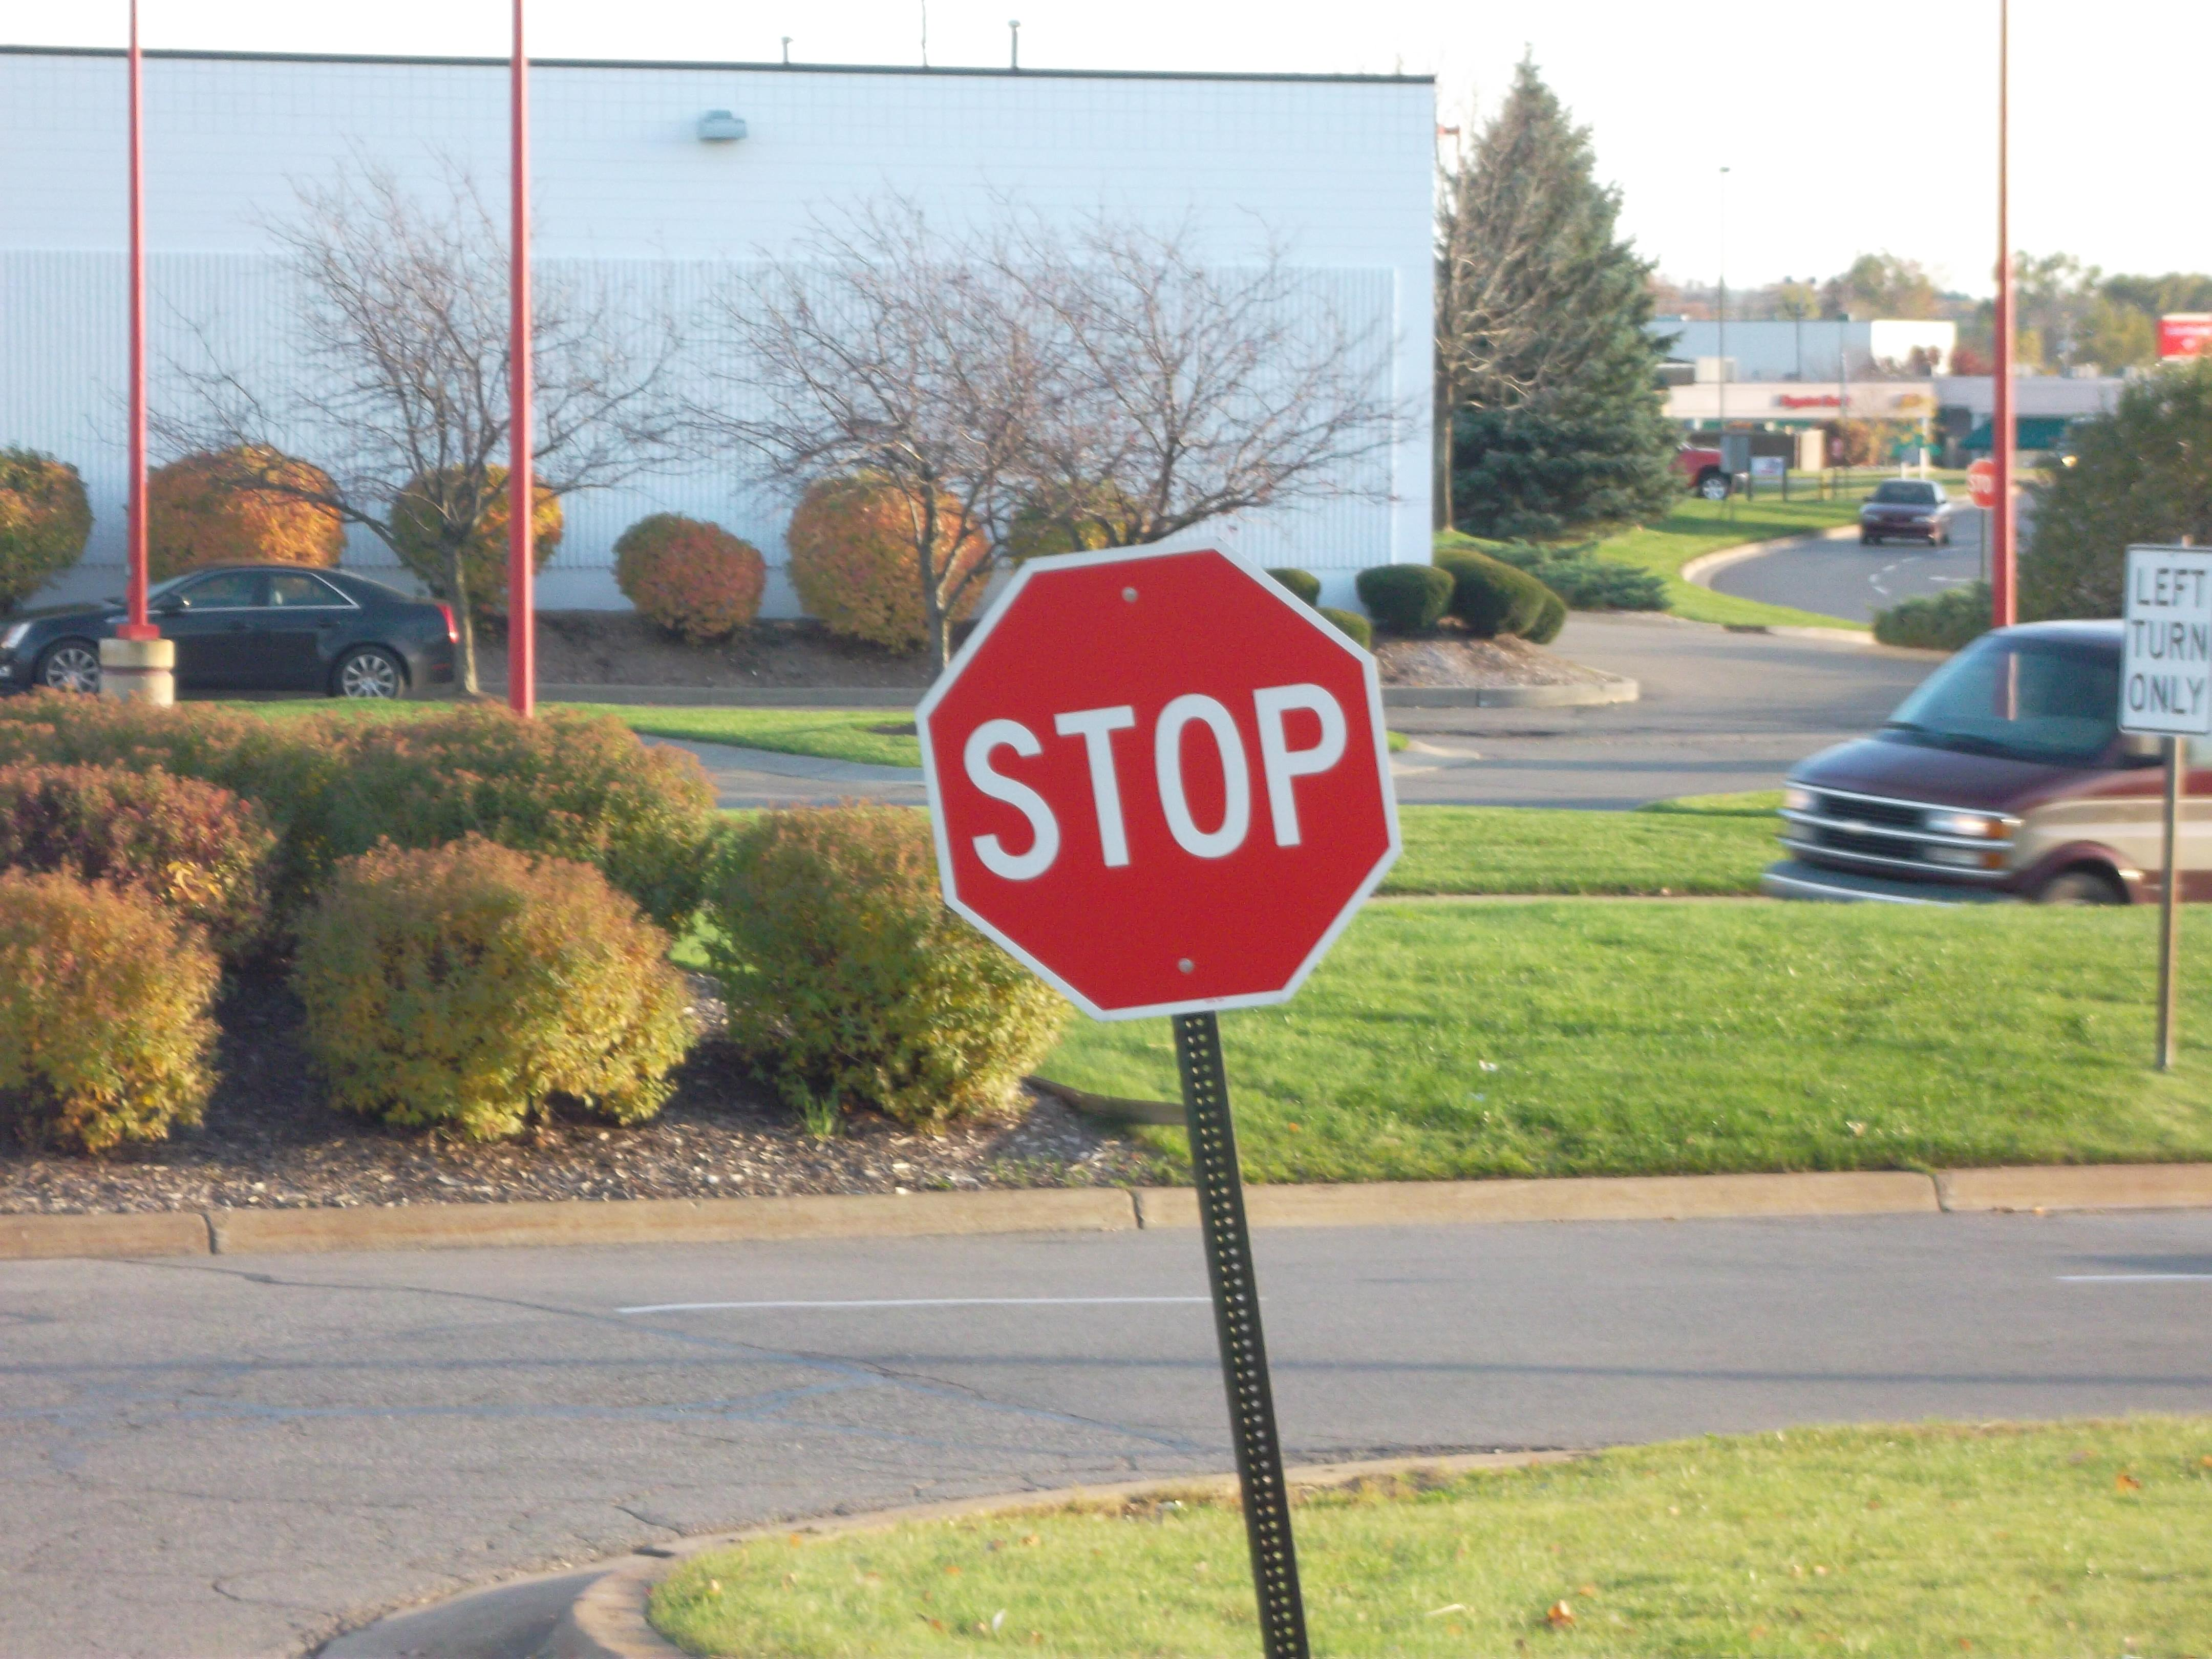regulatory: (2101, 530, 2212, 777)
stop: (900, 532, 1421, 1030)
